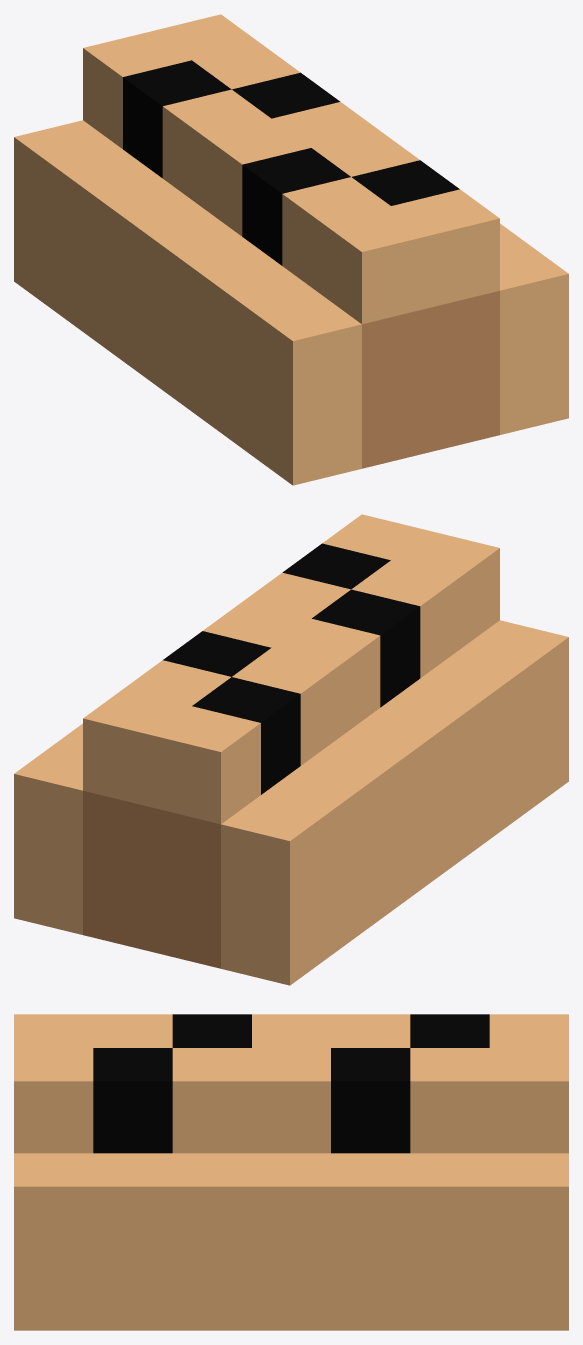
The model's file is tavern-58-bread_loaf.glb.
3 views of the same model, one above another, from view 1: azimuth 30°, elevation 25°; view 2: azimuth 150°, elevation 25°; view 3: azimuth 270°, elevation 25° (orthographic).
Parts seen in each view (by area): view 1: bread_loaf; view 2: bread_loaf; view 3: bread_loaf.
Boxes of the visible parts, left/top/right/bottom form: bread_loaf: left=14, top=14, right=568, bottom=485; bread_loaf: left=14, top=514, right=568, bottom=985; bread_loaf: left=14, top=1014, right=568, bottom=1330.
Bounding box in the file's own units: 0.4 × 0.3 × 0.7.
1 material, 1 textured.
